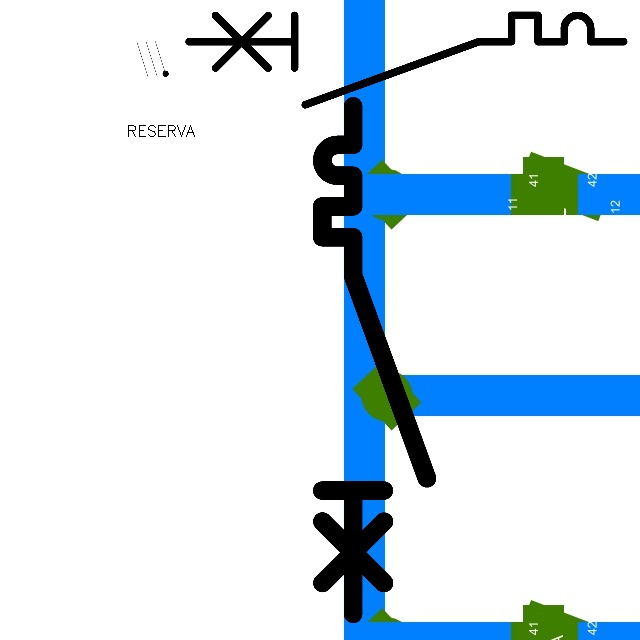interruptor_termomagnetico: (309, 93, 439, 627), (177, 4, 634, 116)
